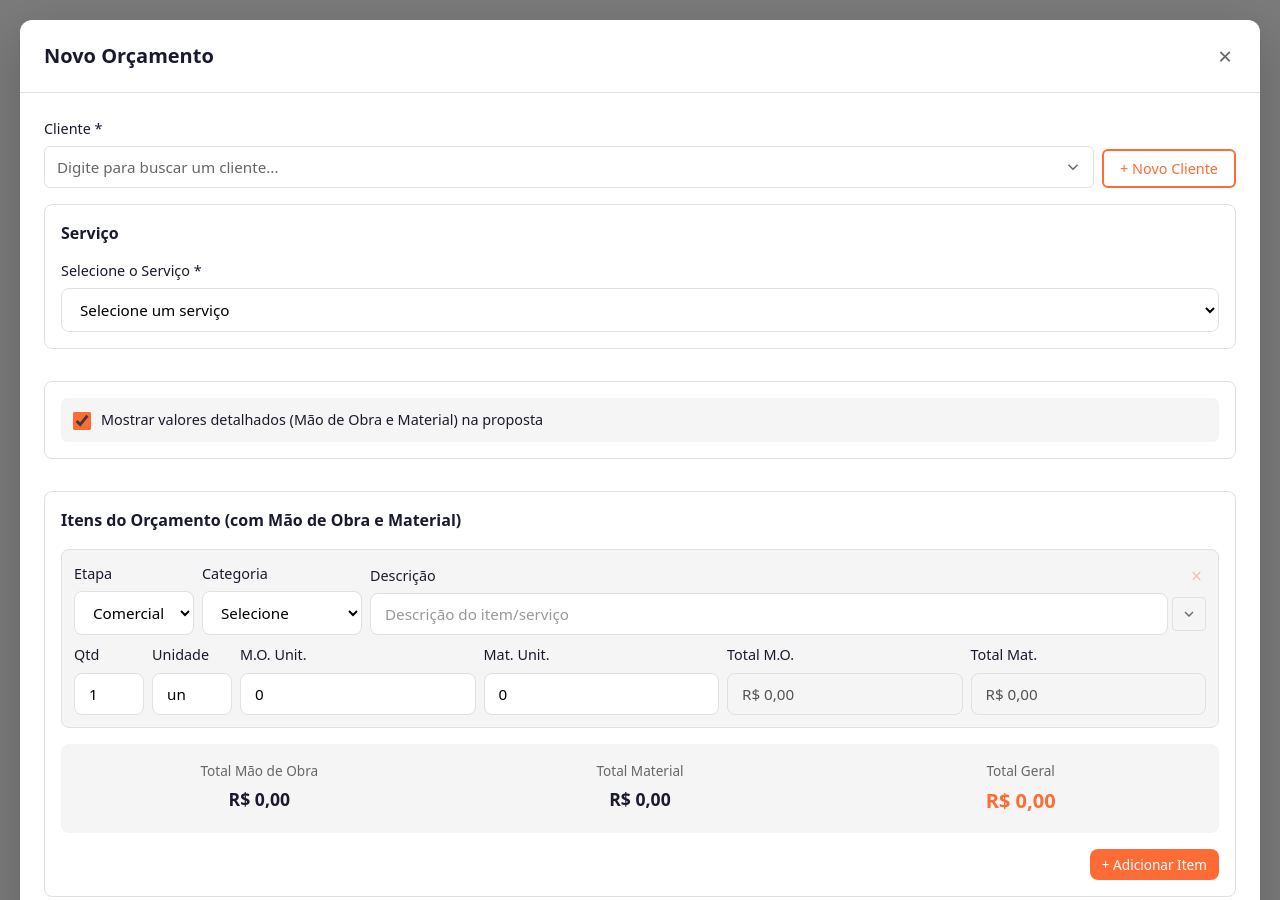
Test: OrcamentoModal › deve exibir informações do cliente ao selecionar
Focus the field with placeholder "Digite para buscar um cliente..." at (569, 167), box top-left (44, 146), bottom-right (1094, 188)
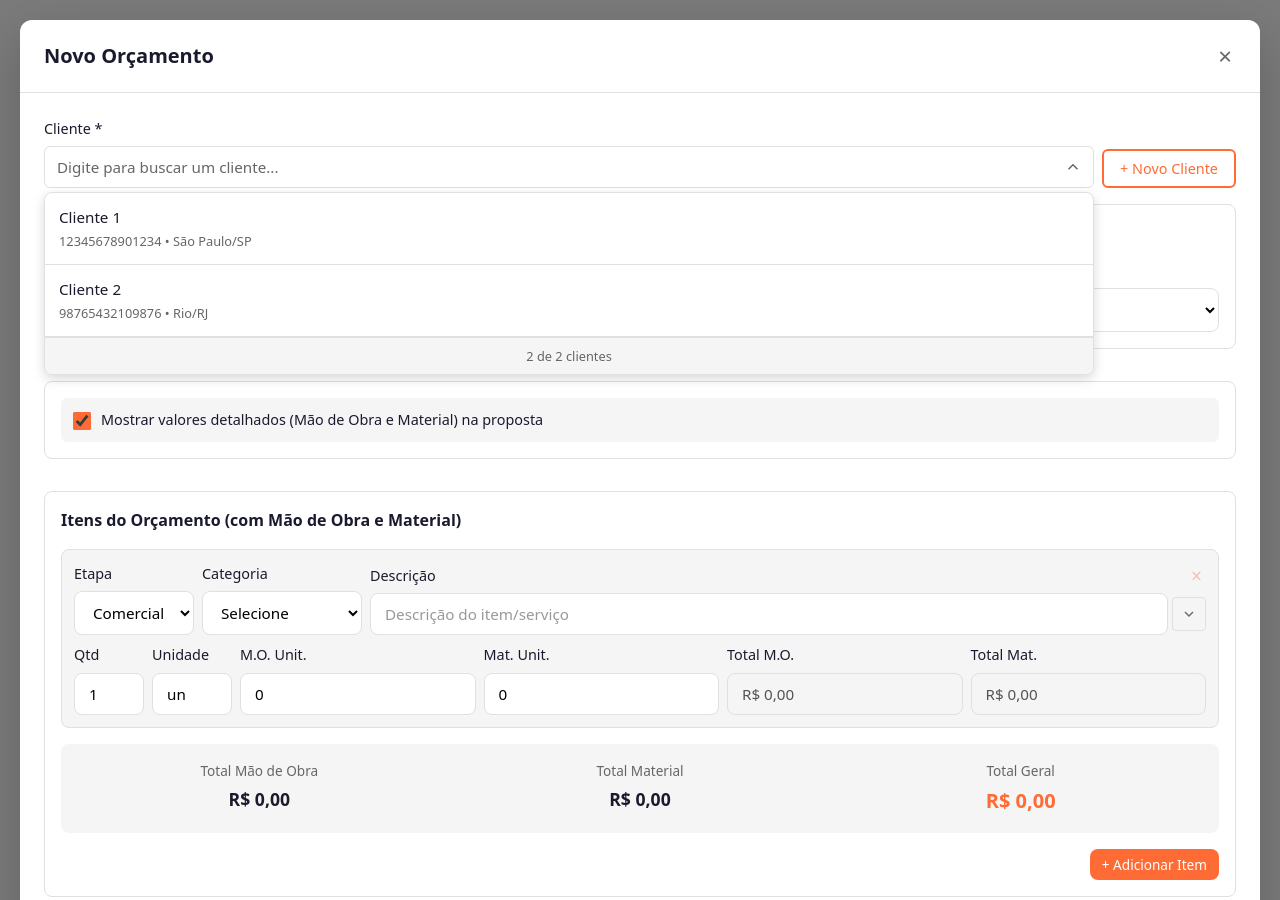
Now the text "Cliente 1" is shown
Click the text "Cliente 1" at (90, 217), box top-left (59, 207), bottom-right (121, 227)
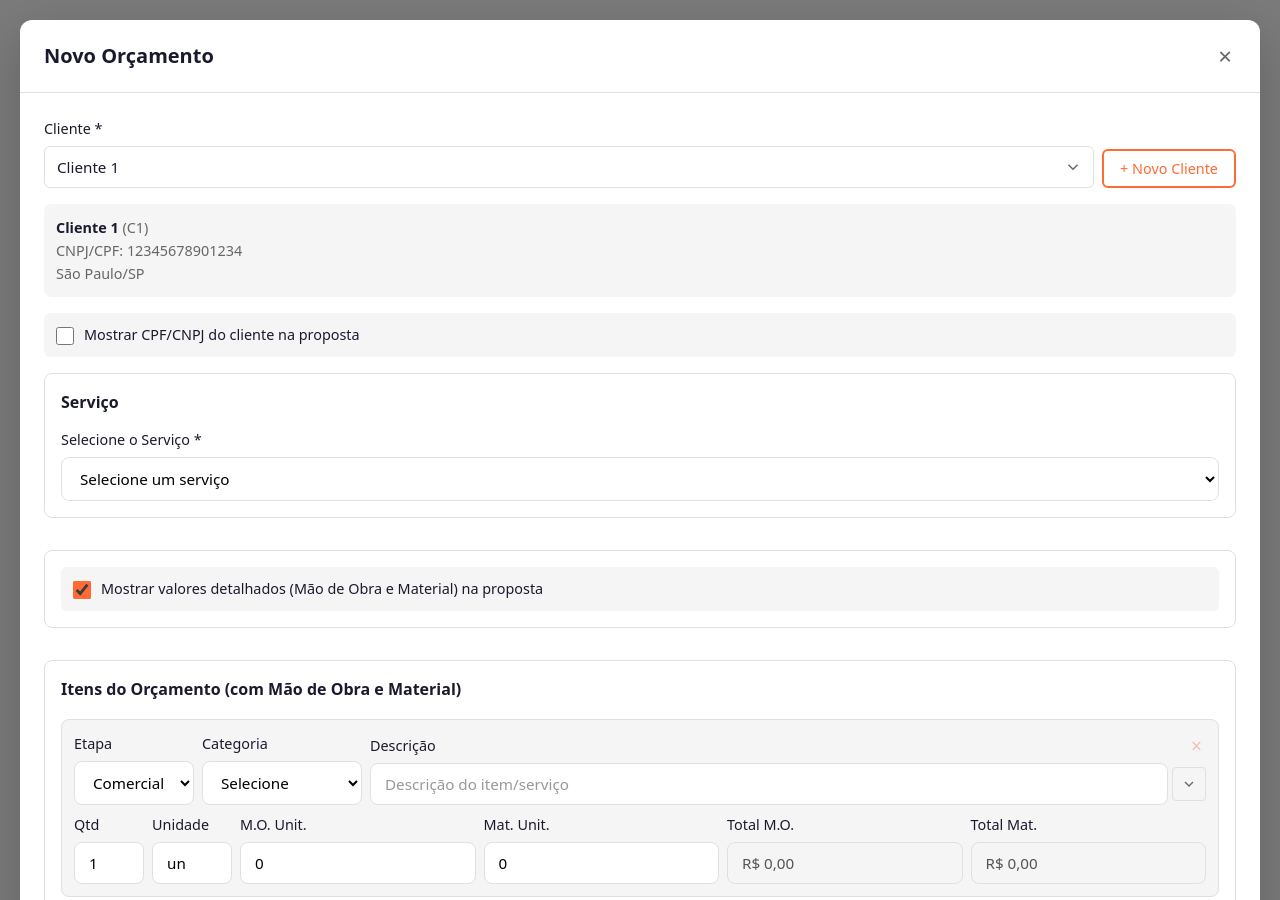
Now the text "Cliente 1 (C1)CNPJ/CPF: 12345678901234São Paulo/SP" is shown, box top-left (44, 204), bottom-right (1236, 297)
